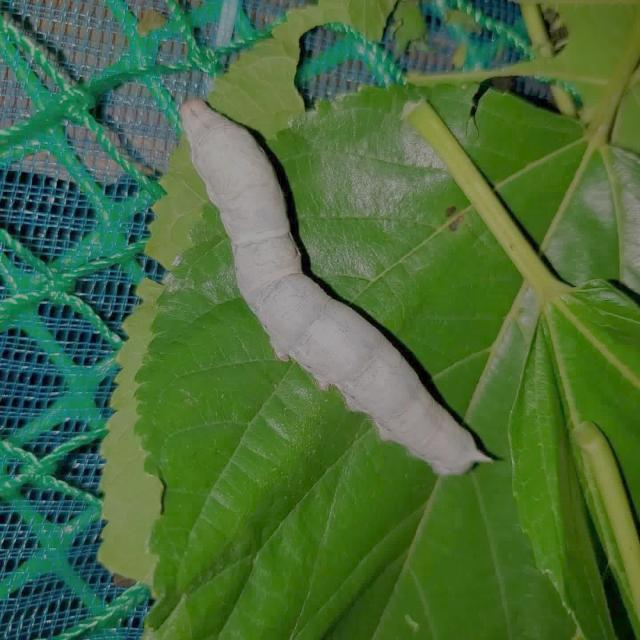Healthy: (152, 73, 510, 498)
